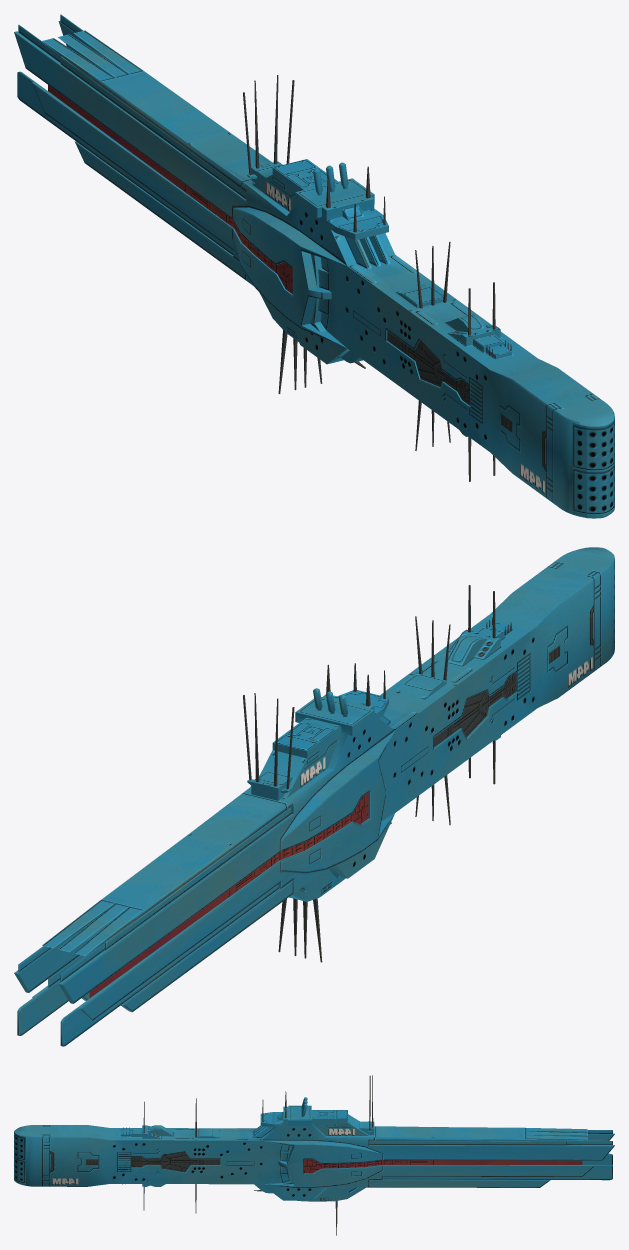
The model's file is FPA_CommandShip_Hyperion.obj.
The picture shows the model from 3 angles, top to bottom: view 1: azimuth 30°, elevation 25°; view 2: azimuth 150°, elevation 25°; view 3: azimuth 270°, elevation 25°; orthographic projection. The views are drawn at different scales.
Visible parts, largest first — view 1: FPA_CommandShip_Hyperion; view 2: FPA_CommandShip_Hyperion; view 3: FPA_CommandShip_Hyperion.
Part boxes in pixels (<box>): FPA_CommandShip_Hyperion: <box>14,14,614,518</box>; FPA_CommandShip_Hyperion: <box>14,547,614,1046</box>; FPA_CommandShip_Hyperion: <box>14,1075,614,1235</box>.
Size of the model in its own units: 57.38 by 203 by 729.
